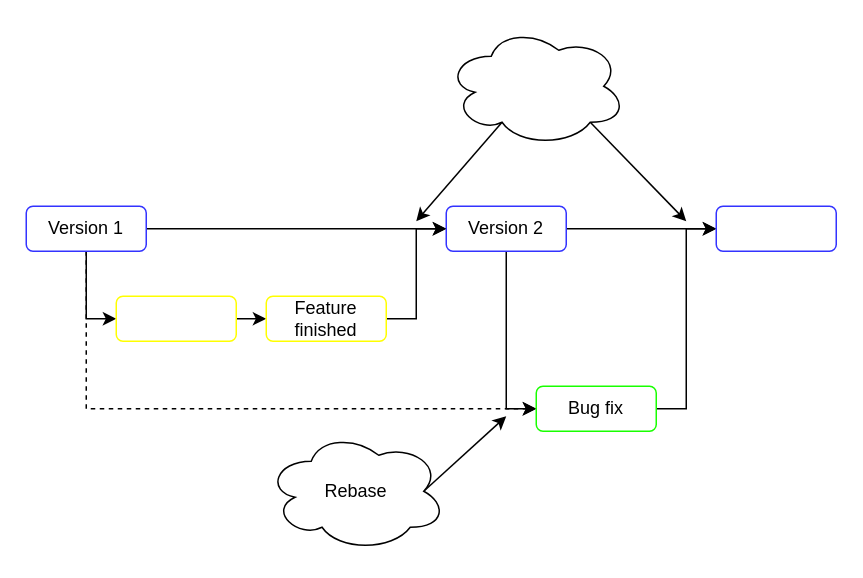
This 863x578 diagram has some shape labels left out. The shapes that lost their labels are listed below. From the top down, each one's box as (x1, y1, x2, y2) in pixels, then its label:
(445, 25, 626, 146): Merge
(715, 205, 836, 251): Version 3
(115, 295, 236, 341): New feature
